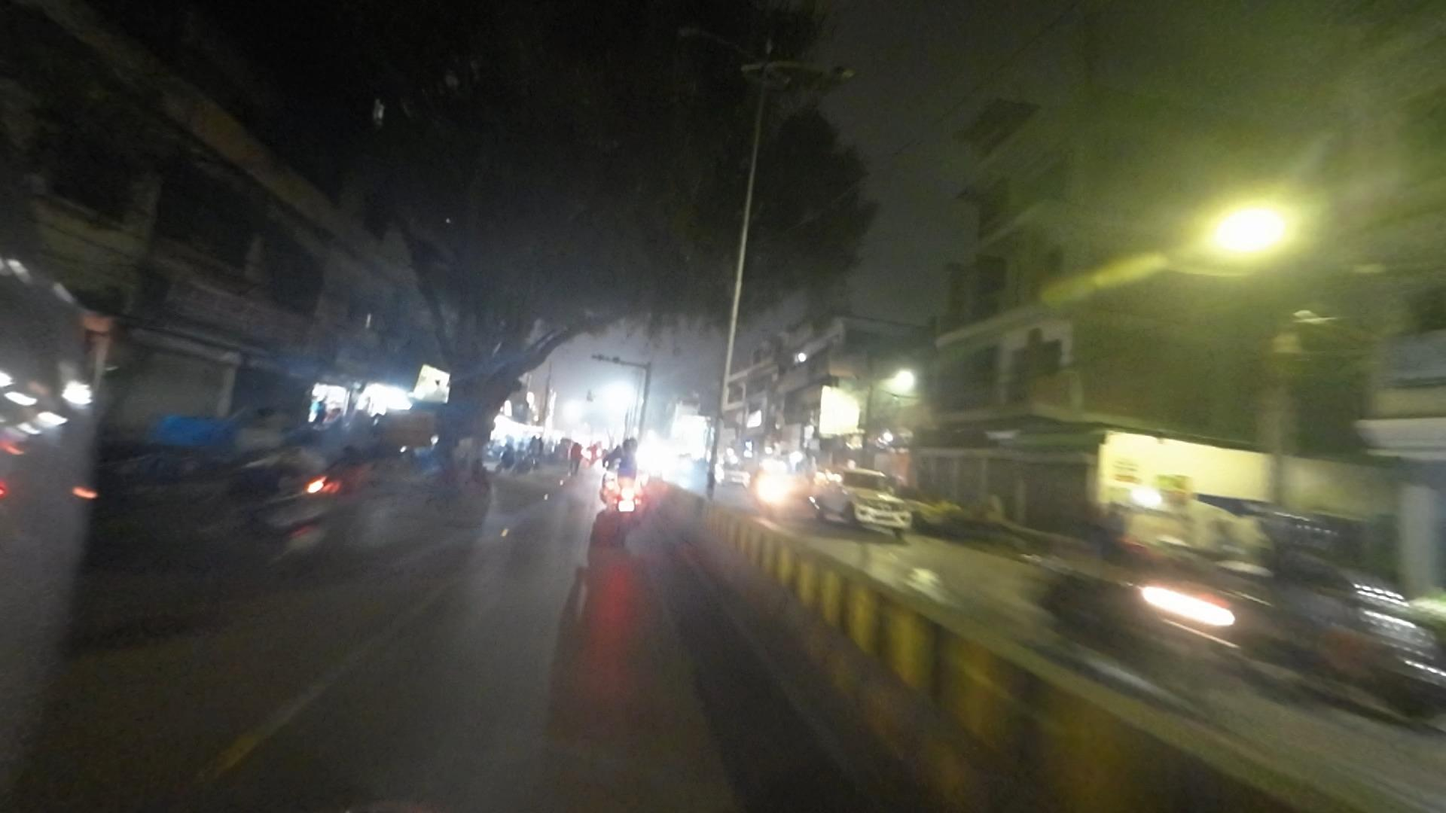streetlight: (786, 54, 859, 83)
